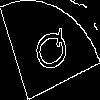Q: (25, 25, 73, 79)
